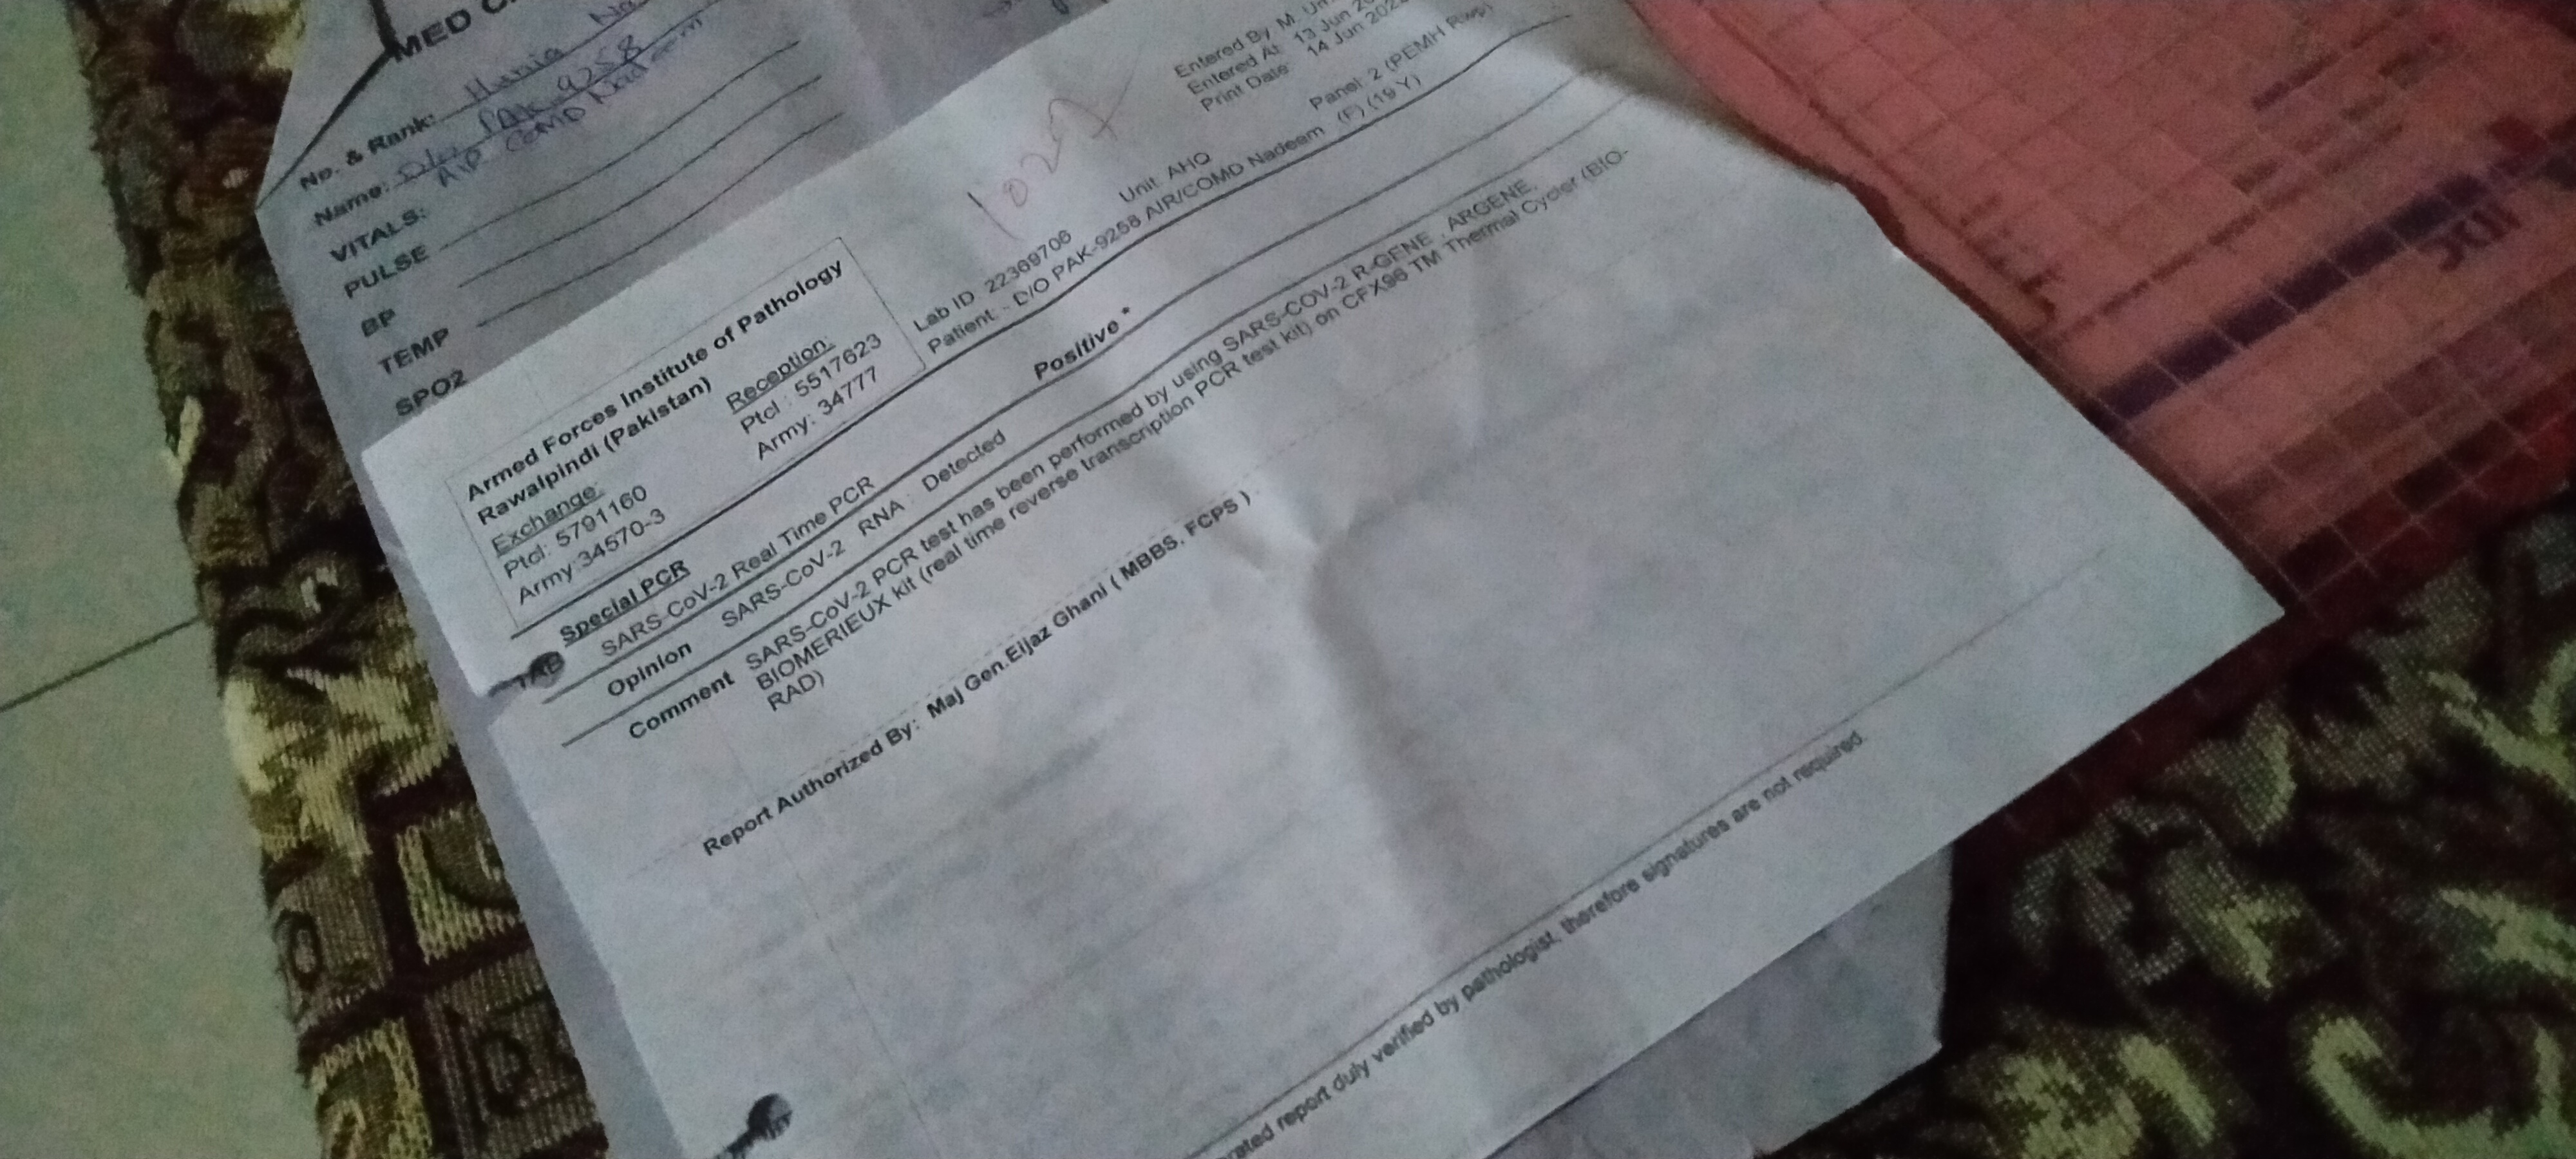report: (504, 59, 1697, 752)
